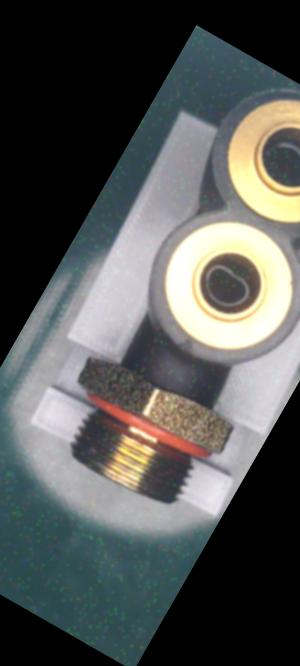bump: (170, 332, 199, 359)
joint line: (164, 358, 186, 390)
off-centered: (187, 249, 264, 320)
